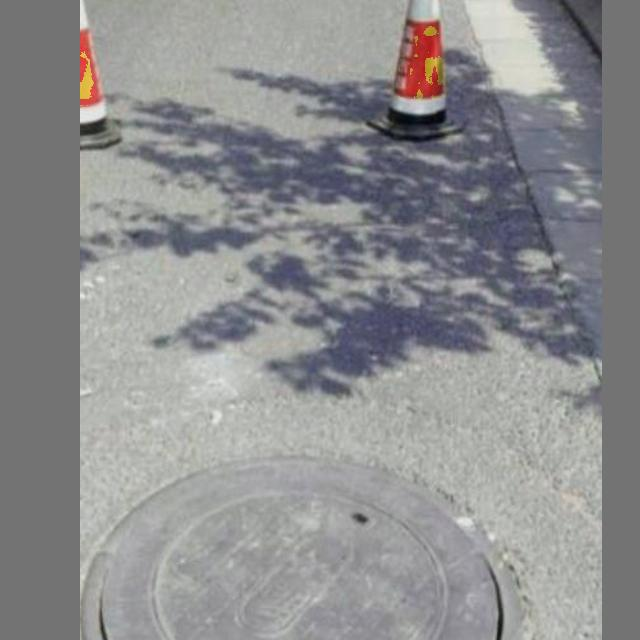good: (82, 446, 537, 640)
